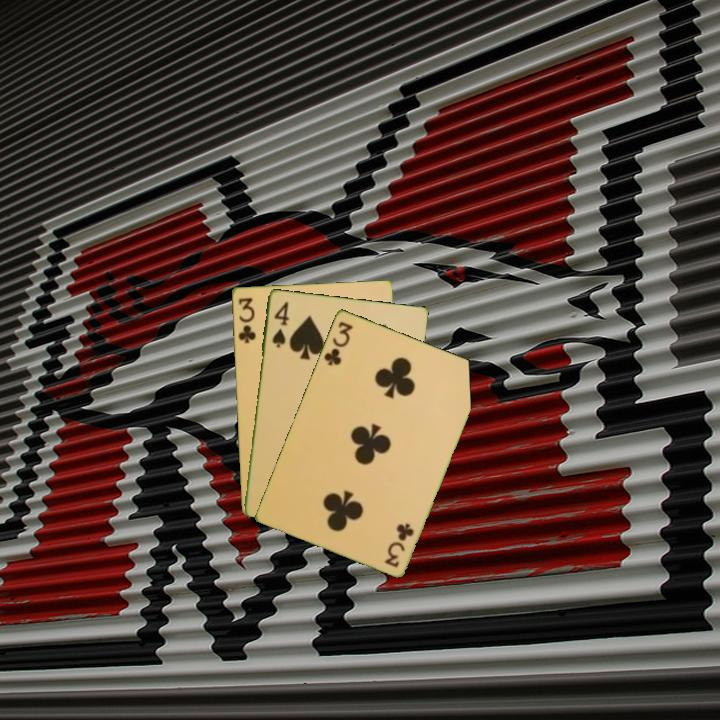3c: (381, 519, 417, 570), (320, 318, 355, 368), (234, 294, 258, 346)
4s: (268, 298, 291, 350)
